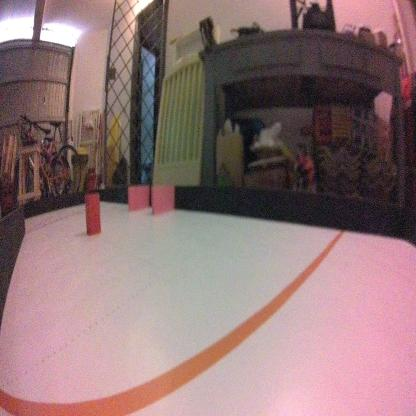magenta: (150, 183, 175, 217), (127, 183, 148, 211)
red: (84, 188, 104, 240)
